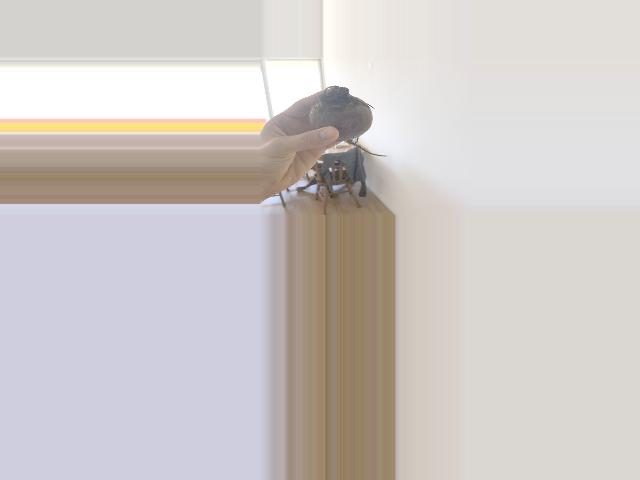beet: (309, 85, 389, 157)
